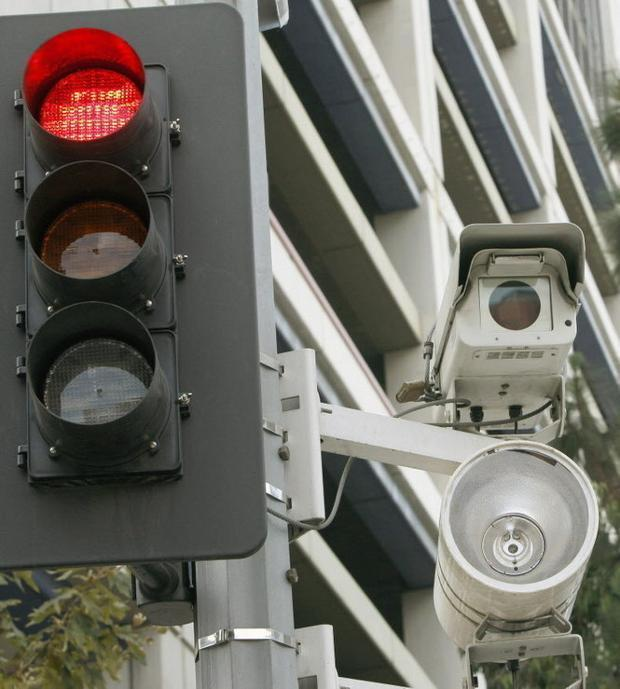Monitor: (400, 208, 620, 438)
